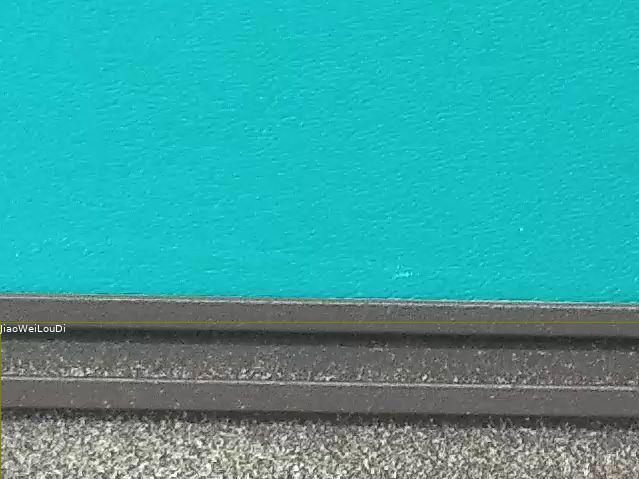JiaoWeiLouDi: (0, 322, 639, 479)
